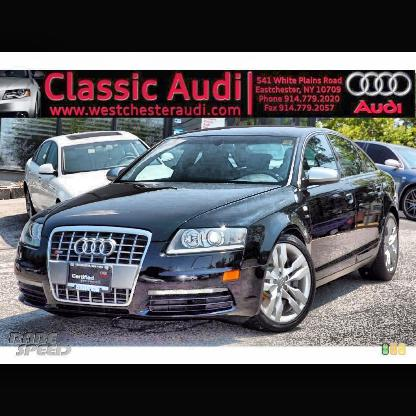Audi S6 Sedan 2011: (12, 126, 402, 334)
